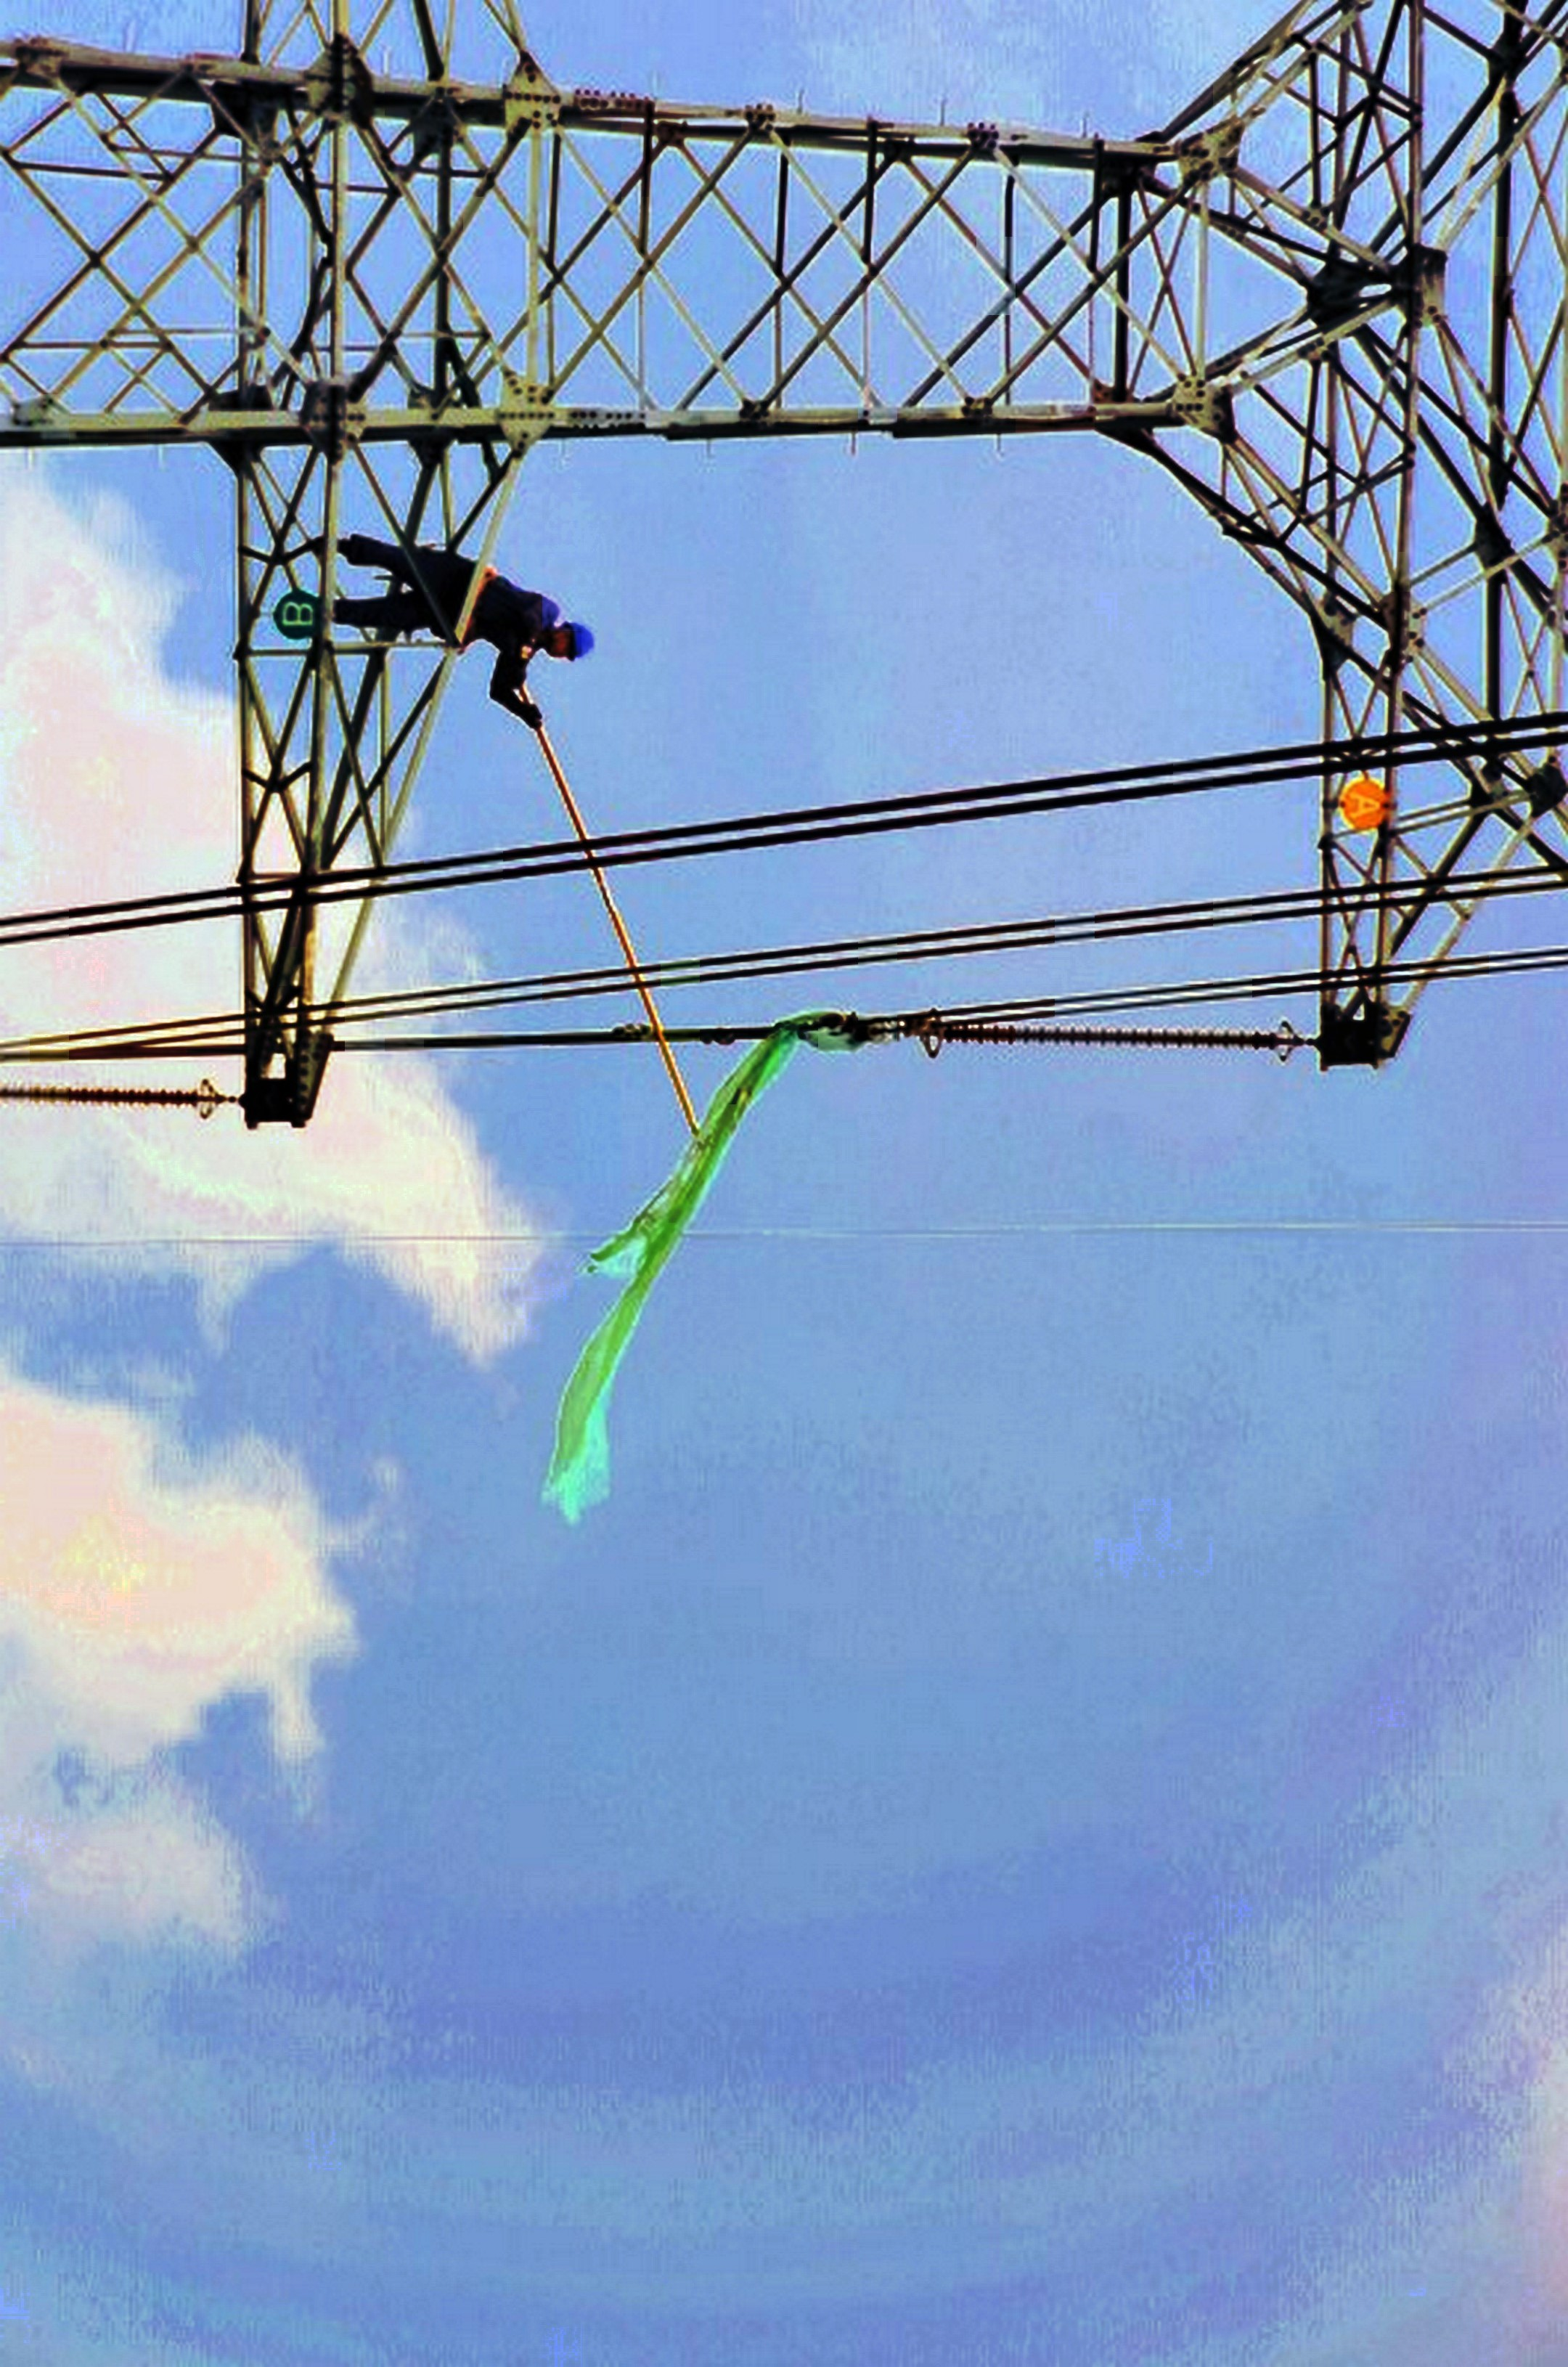wire foreign body: (530, 997, 908, 1538)
